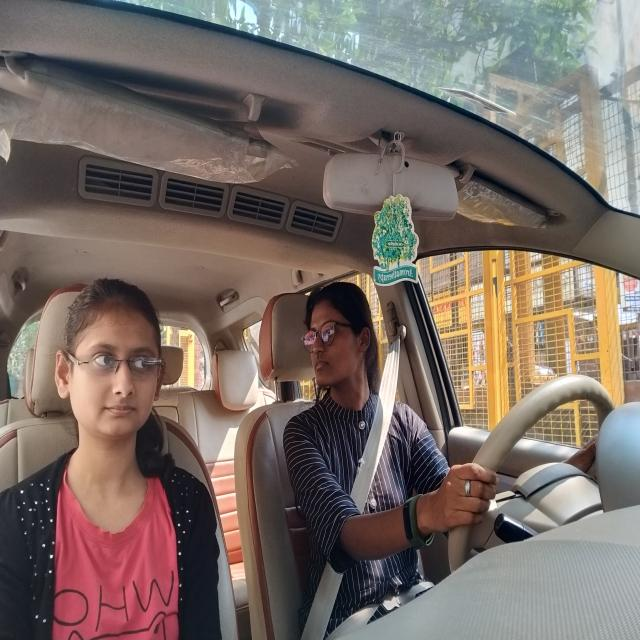LeftRight: (301, 279, 371, 391)
person: (54, 277, 170, 448)
